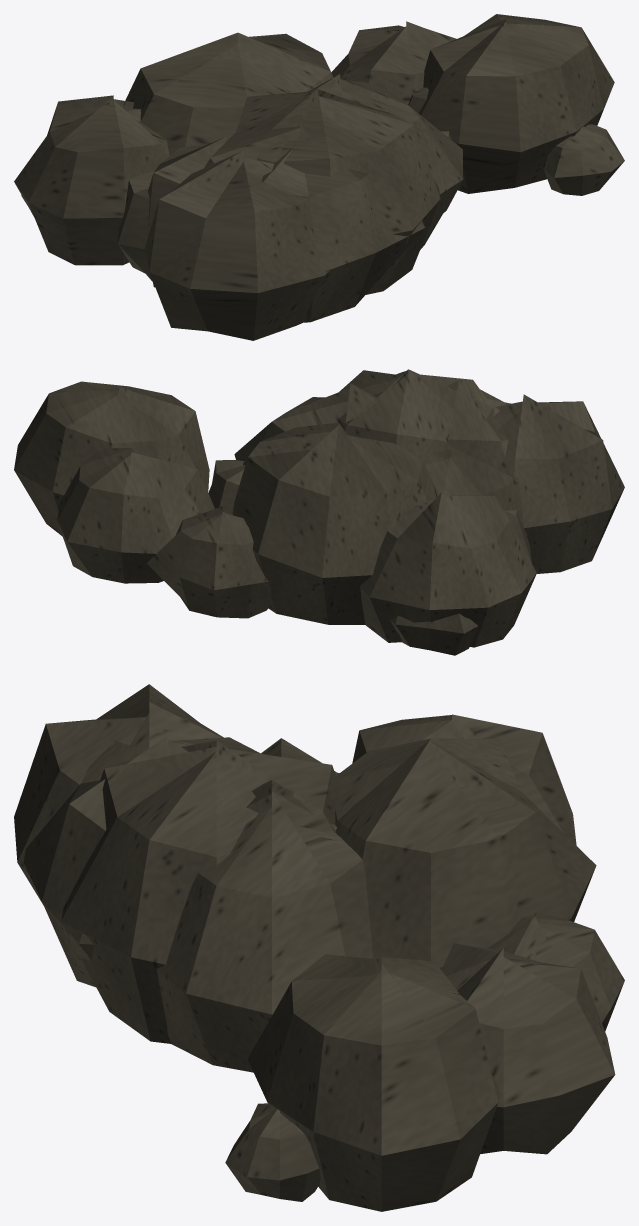
File: PROP-86BC53B68C31_lod1.glb
3 renders of one model, top to bottom at view 1: azimuth 30°, elevation 25°; view 2: azimuth 150°, elevation 25°; view 3: azimuth 270°, elevation 25°, orthographic. The views are drawn at different scales.
Parts seen in each view (by area): view 1: rock.005; view 2: rock.005; view 3: rock.005.
Part boxes in pixels (x1,y1,x2,y2): rock.005: [14, 14, 624, 340]; rock.005: [14, 369, 624, 655]; rock.005: [14, 684, 624, 1211].
Size of the model in its own units: 1.52 by 0.4706 by 1.03.
1 material, 1 textured.
